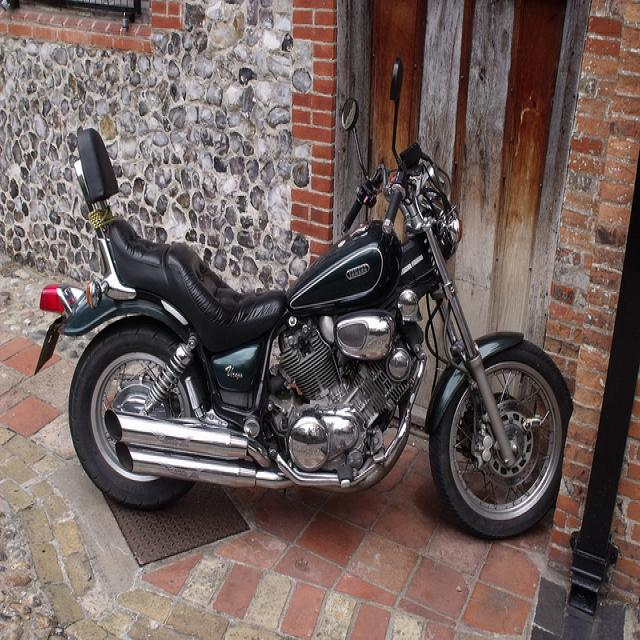motor: (33, 53, 573, 544)
